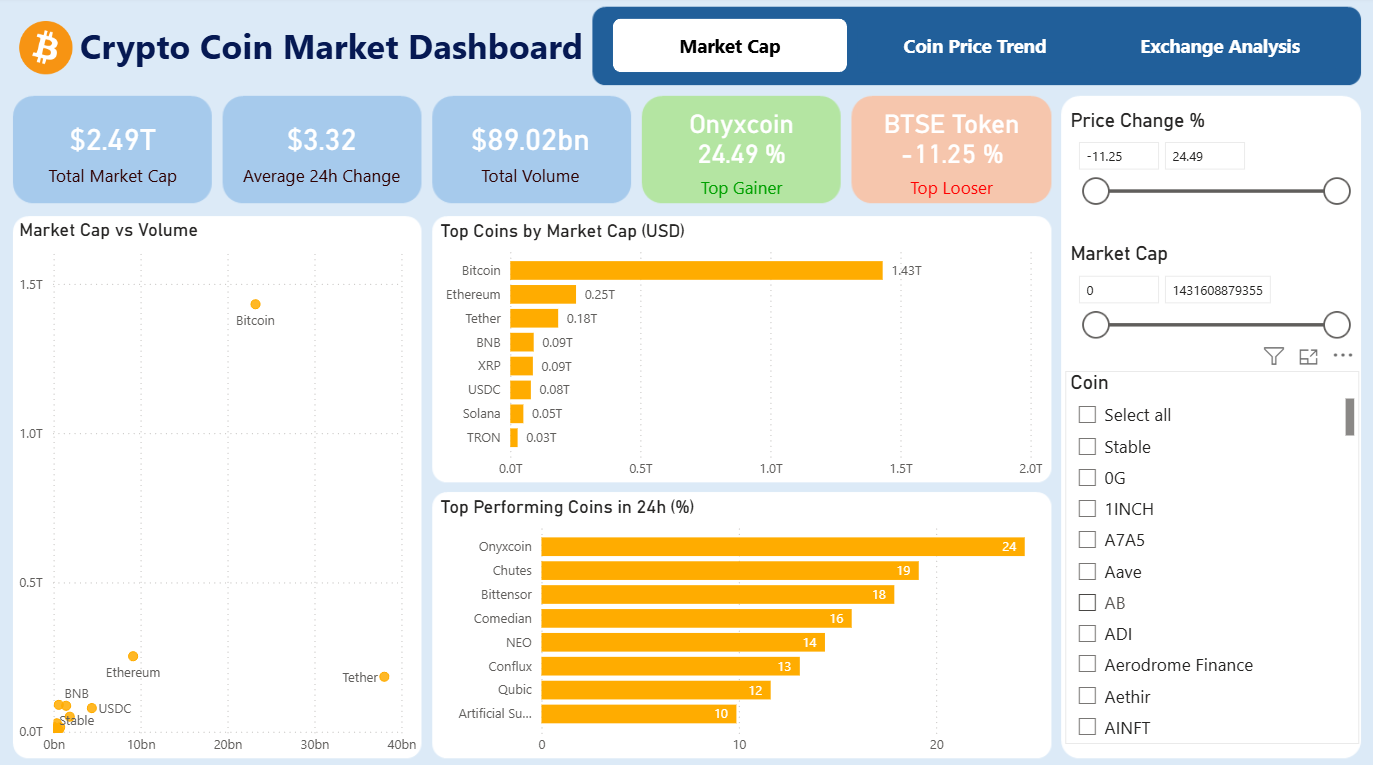

What the dashboard file says about the page in this screenshot:
{"tool":"powerbi","page":{"name":"Market Cap","canvas":[1280,720],"ordinal":0},"visuals":[{"type":"card","fields":{"Values":["Market Cap.Top Looser"]},"box":[792.5,91.7,186.7,101.7],"z":0},{"type":"barChart","title":"Top Coins by Market Cap (USD)","fields":{"Category":["Market Cap.name"],"Y":["Sum(Market Cap.market_cap)"]},"box":[406.3,208.2,569.9,249.4],"z":1000},{"type":"card","fields":{"Values":["Market Cap.Top Gainer"]},"box":[597.5,91.7,186.7,101.7],"z":2000},{"type":"card","fields":{"Values":["Market Cap.Total Volume"]},"box":[400.8,91.7,186.7,102.5],"z":3000},{"type":"card","fields":{"Values":["Market Cap.Average 24h Change"]},"box":[207.5,91.7,186.7,102.5],"z":4000},{"type":"card","fields":{"Values":["Market Cap.Total Market Cap"]},"box":[12.5,91.7,186.7,102.5],"z":5000},{"type":"barChart","title":"Top Performing Coins in 24h (%)","fields":{"Category":["Market Cap.name"],"Y":["Sum(Market Cap.price_change_percentage_24h)"]},"box":[406.3,465.3,569.9,249.4],"z":6000},{"type":"scatterChart","title":"Market Cap vs Volume","fields":{"Category":["Market Cap.name"],"X":["Sum(Market Cap.total_volume)"],"Y":["Sum(Market Cap.market_cap)"]},"box":[14.5,207.1,379.6,507.6],"z":7000},{"type":"slicer","title":"Coin","fields":{"Values":["Market Cap.name"]},"box":[991.7,348.7,273.9,347.5],"z":8000},{"type":"slicer","title":"Market Cap","fields":{"Values":["Market Cap.market_cap"]},"box":[991.8,229.3,273.8,98],"z":9000},{"type":"slicer","title":"Price Change %","fields":{"Values":["Market Cap.price_change_percentage_24h"]},"box":[991.7,105,273.9,100.1],"z":10000},{"type":"textbox","title":"CryptoCoin Market Dashboard","box":[14.5,19.3,534.5,56.7],"z":11000},{"type":"image","box":[14.5,22.9,59.1,49.5],"z":12000},{"type":"pageNavigator","box":[570.6,20.5,675.6,50.7],"z":13000}]}

Visuals, with their boxes in screenshot pixels (x1, y1, x2, y2), scaled from the page's 1280x720 canvas onto the 1373x765 screenshot:
card - Market Cap.Top Looser: Rect(850, 97, 1050, 205)
"Top Coins by Market Cap (USD)" barChart: Rect(436, 221, 1047, 486)
card - Market Cap.Top Gainer: Rect(641, 97, 841, 205)
card - Market Cap.Total Volume: Rect(430, 97, 630, 206)
card - Market Cap.Average 24h Change: Rect(223, 97, 423, 206)
card - Market Cap.Total Market Cap: Rect(13, 97, 214, 206)
"Top Performing Coins in 24h (%)" barChart: Rect(436, 494, 1047, 759)
"Market Cap vs Volume" scatterChart: Rect(16, 220, 423, 759)
"Coin" slicer: Rect(1064, 370, 1358, 740)
"Market Cap" slicer: Rect(1064, 244, 1358, 348)
"Price Change %" slicer: Rect(1064, 112, 1358, 218)
"CryptoCoin Market Dashboard" textbox: Rect(16, 21, 589, 81)
image: Rect(16, 24, 79, 77)
pageNavigator: Rect(612, 22, 1337, 76)
